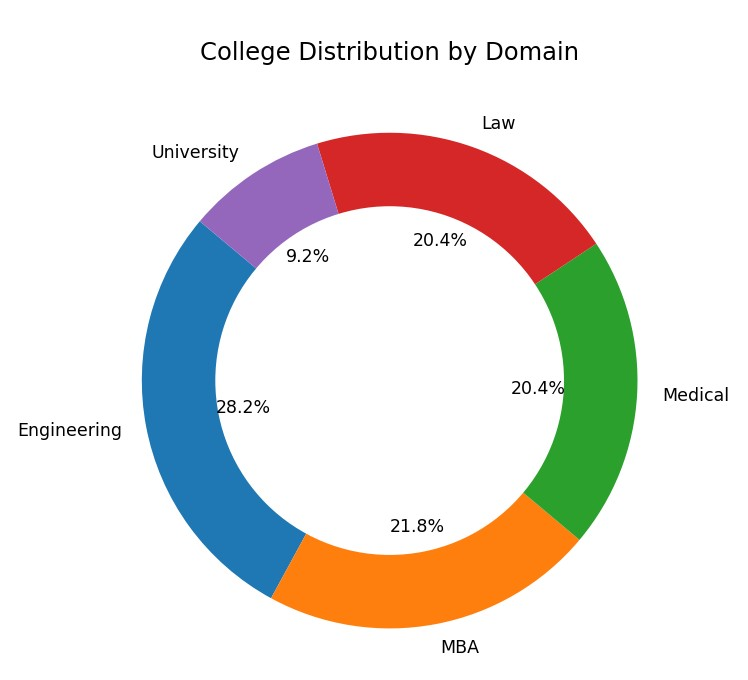

This screenshot's page, from the dashboard's own definition file:
{"tool":"powerbi","page":{"name":"Donut Chart","canvas":[1280,720],"ordinal":12},"visuals":[{"type":"donutChart","title":"Course Duration Distribution","fields":{"Category":["careers360_colleges.course_duration_years"],"Y":["Count(careers360_colleges.course_name)"]},"box":[203.8,149.4,780.4,466.4],"z":0}]}

Visuals, with their boxes on the page's 1280x720 design canvas (x1, y1, x2, y2). These are canvas units, not pixel positions in the 748x680 screenshot, which may show the page scaled, cropped or inside an application window:
"Course Duration Distribution" donutChart: x1=204, y1=149, x2=984, y2=616
